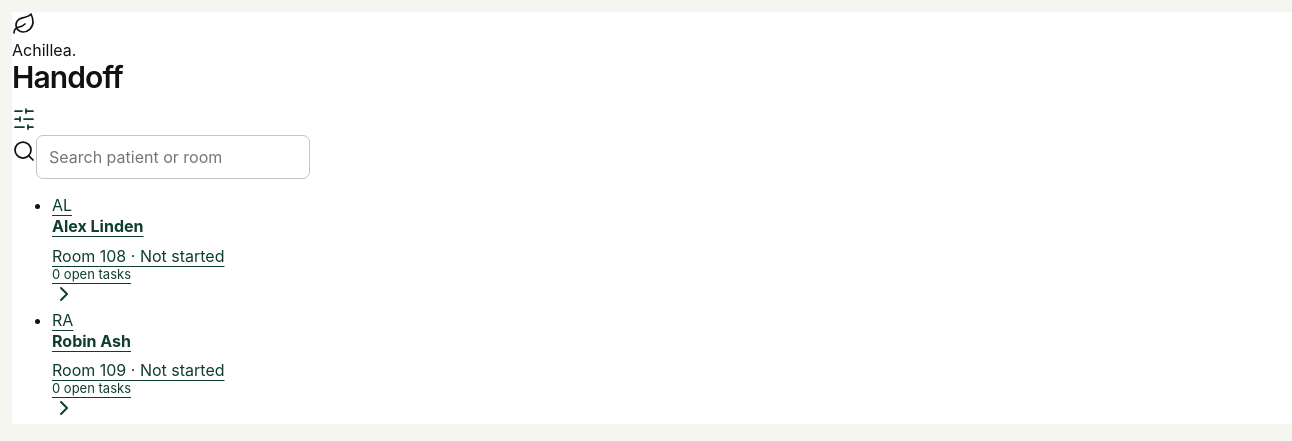
Scenario: Handoff screen › finds a patient by room and links straight to their handoff
expect the link with aria-label "Alex Linden, Room 108" is shown: met, box [52,195,224,306]
Type "109" into the search field named "Search handoff patients" at (173, 157), box [36,135,310,179]
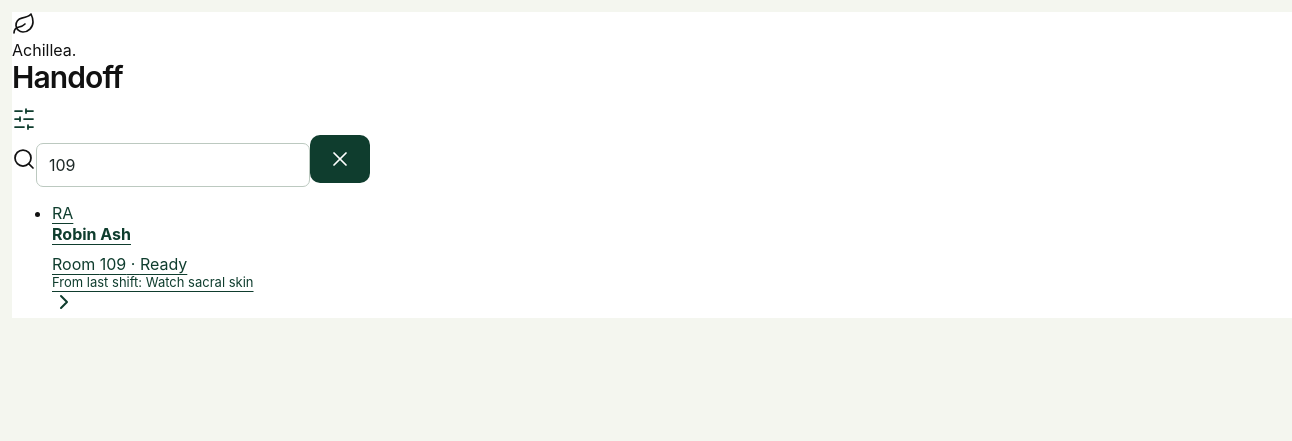
expect the link with aria-label "Robin Ash, Room 109" has attribute href="/activity?tab=incoming&q=109&handoff=h2": met, box [52,203,254,314]
Click the button named "Clear handoff search" at (340, 159), box [310,135,370,183]
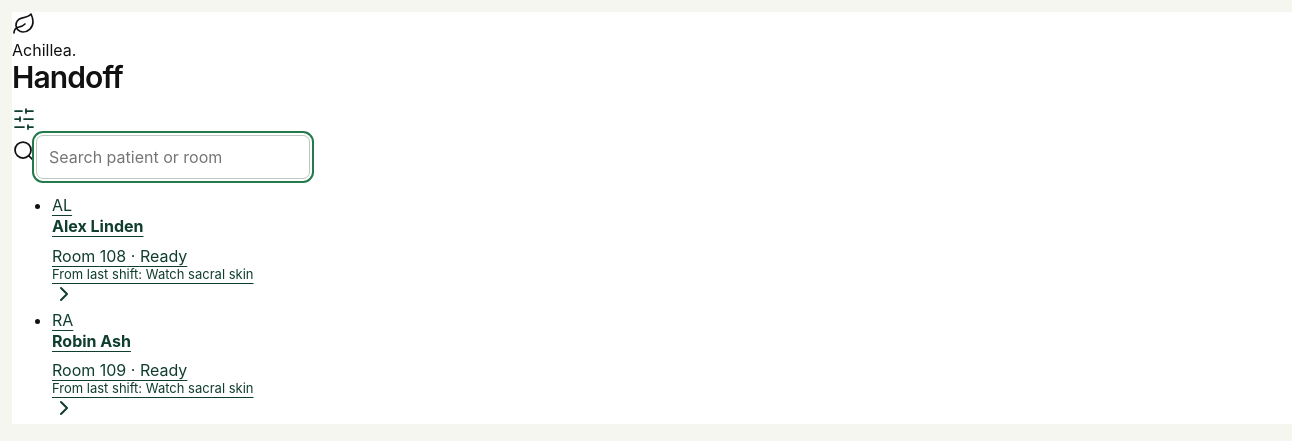
expect the link with aria-label "Alex Linden, Room 108" is shown: met, box [52,195,254,306]
